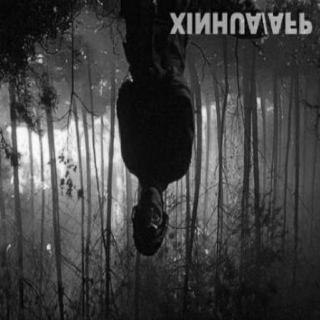Fire: (6, 106, 113, 232), (196, 90, 280, 158)
